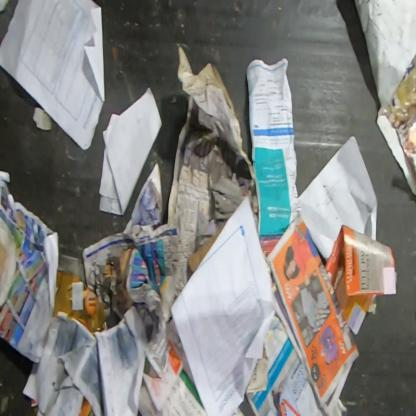cardboard: (188, 220, 228, 274)
soft_plastic: (53, 271, 106, 337), (77, 396, 95, 415), (31, 396, 39, 416)
